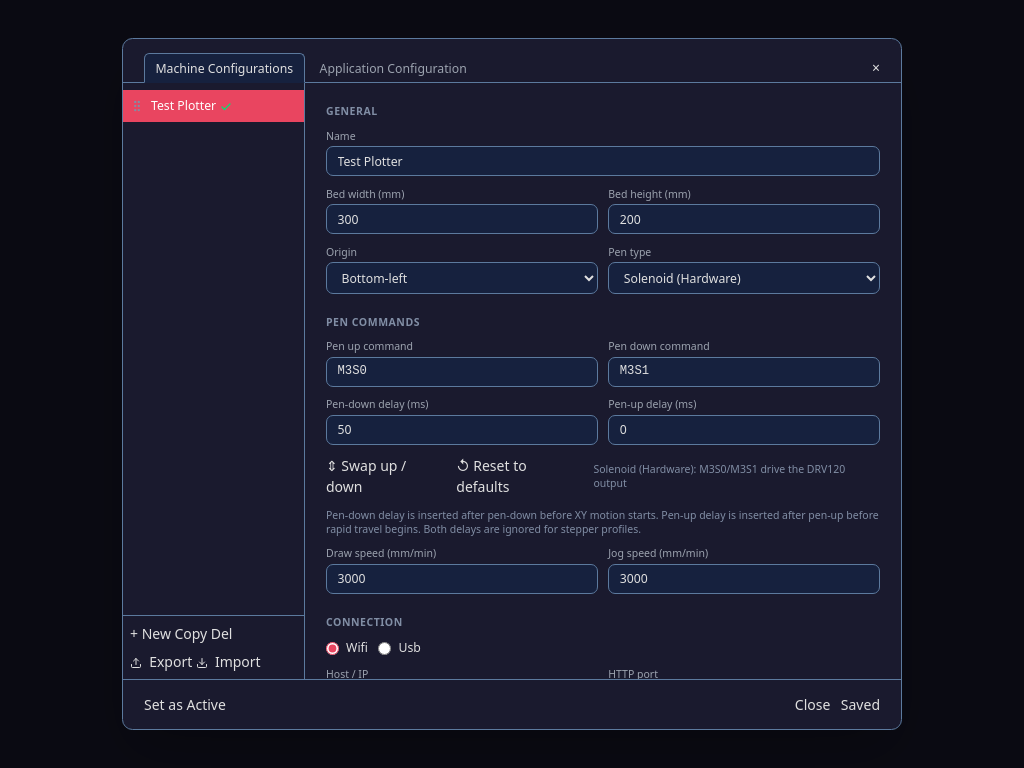
Test: MachineConfigDialog › shows application setting on Application Configuration tab
Click the tab "Application Configuration" at (393, 68), box [308,53,478,83]
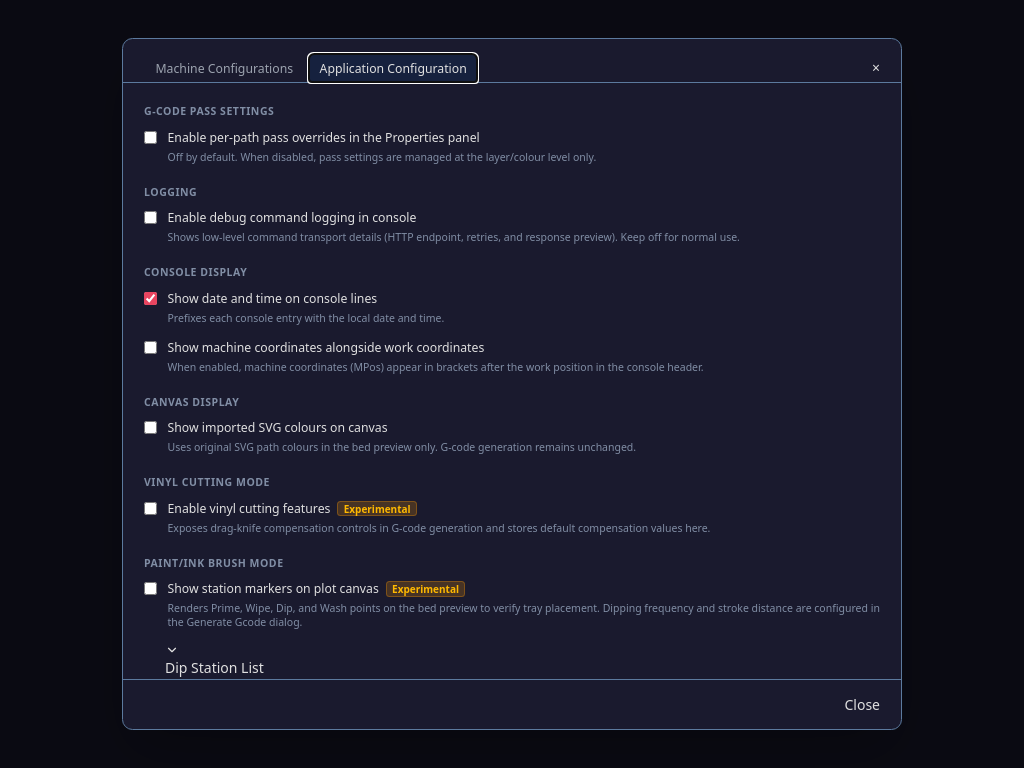
Result: the text "Enable per-path pass overrides in the Properties panel" is shown at [168,129,480,146]
Result: the checkbox labelled "Enable per-path pass overrides in the Properties panel" is not checked at [144,131,157,144]
